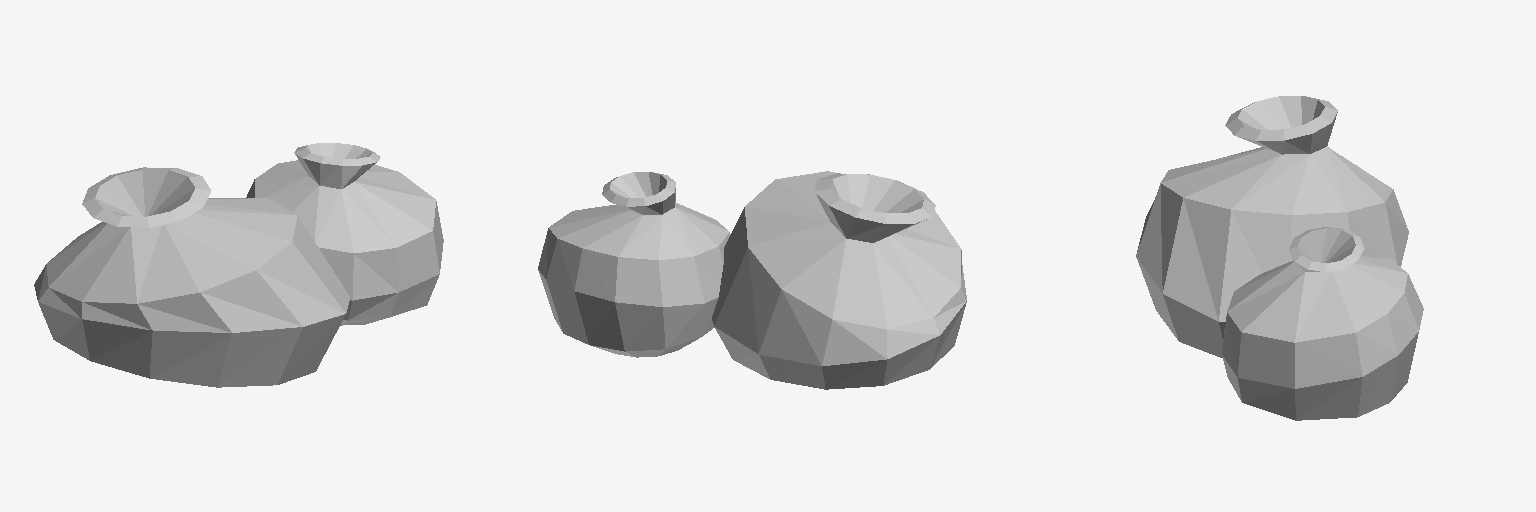
Rendered from jug_001.obj.
3 renders of one model, left to right at view 1: azimuth 30°, elevation 25°; view 2: azimuth 150°, elevation 25°; view 3: azimuth 270°, elevation 25°, orthographic.
Parts seen in each view (by area): view 1: jug_001; view 2: jug_001; view 3: jug_001.
Boxes of the visible parts, box(x1,y1,x2,y2) form: jug_001: box(34, 143, 443, 387); jug_001: box(538, 171, 966, 389); jug_001: box(1136, 96, 1423, 420).
Size of the model in its own units: 0.7318 by 0.3407 by 0.4675.